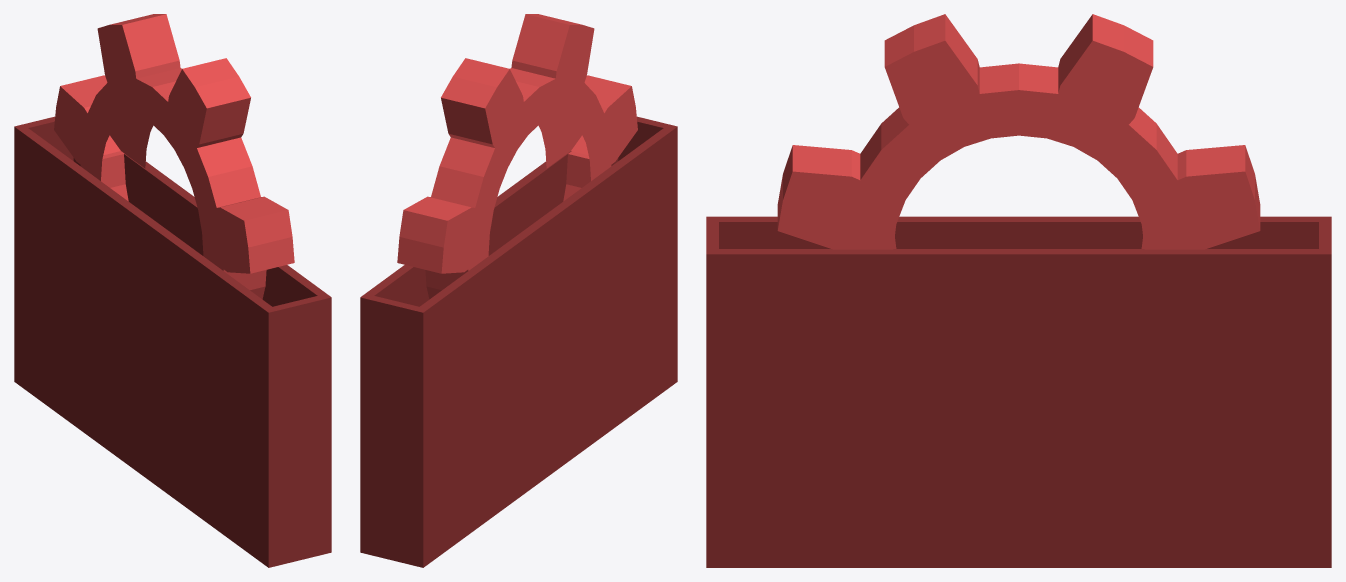
File: trap_3.fbx
3 views of the same model, side by side, from view 1: azimuth 30°, elevation 25°; view 2: azimuth 150°, elevation 25°; view 3: azimuth 270°, elevation 25° (orthographic). The views are drawn at different scales.
Visible parts, largest first — view 1: Cube, Gear; view 2: Cube, Gear; view 3: Cube, Gear.
Part boxes in pixels (x1,y1,x2,y2): Cube: (14,116,331,567); Gear: (54,14,294,299); Cube: (360,116,677,567); Gear: (397,14,637,299); Cube: (706,216,1331,567); Gear: (777,14,1260,249).
Bounding box in the file's own units: 28.48 × 183 × 199.
